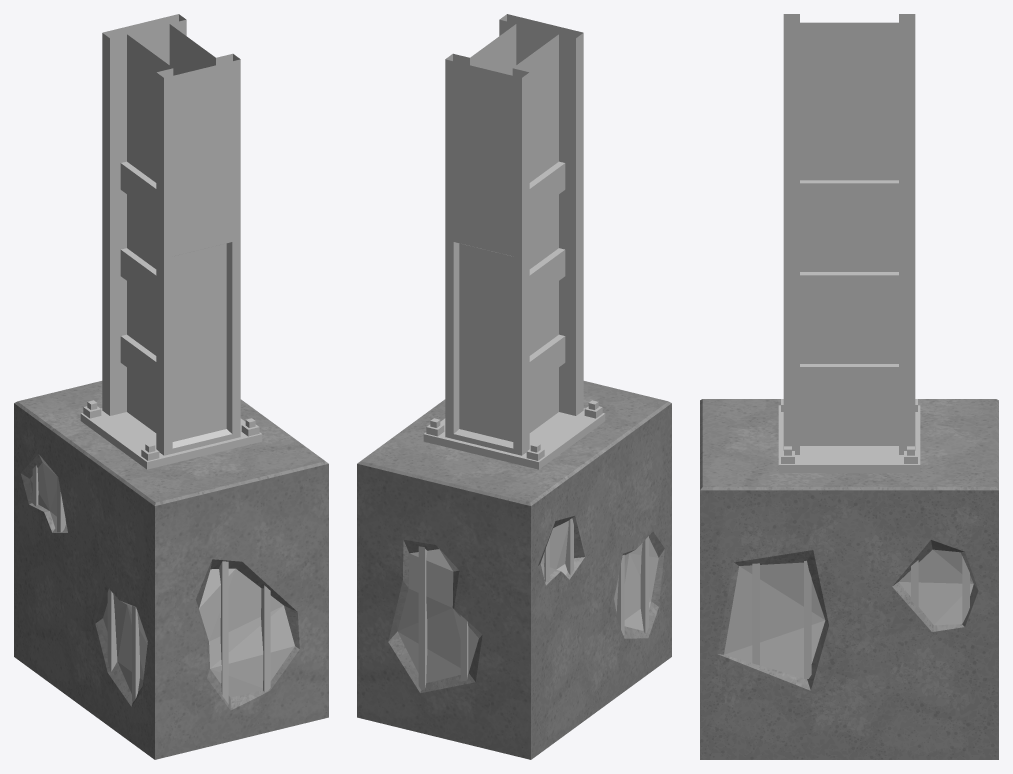
Rendered from SM_Pillar_Dawn_B.fbx.
3 renders of one model, left to right at view 1: azimuth 30°, elevation 25°; view 2: azimuth 150°, elevation 25°; view 3: azimuth 270°, elevation 25°, orthographic. The views are drawn at different scales.
Parts seen in each view (by area): view 1: SM_Pillar_Dawn_B; view 2: SM_Pillar_Dawn_B; view 3: SM_Pillar_Dawn_B.
Part boxes in pixels (left/top/right/bottom): SM_Pillar_Dawn_B: left=14, top=14, right=328, bottom=759; SM_Pillar_Dawn_B: left=357, top=14, right=671, bottom=759; SM_Pillar_Dawn_B: left=700, top=14, right=998, bottom=759.
Size of the model in its own units: 114 by 400 by 159.
